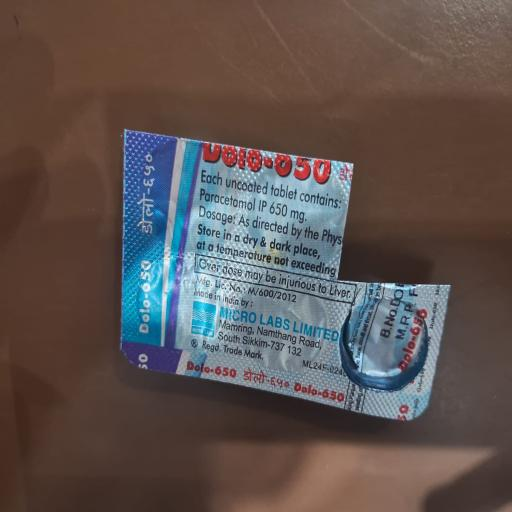dolo-650: (194, 129, 339, 190), (393, 287, 432, 387), (179, 348, 245, 388), (291, 368, 349, 408)
medicine: (126, 124, 446, 423)
